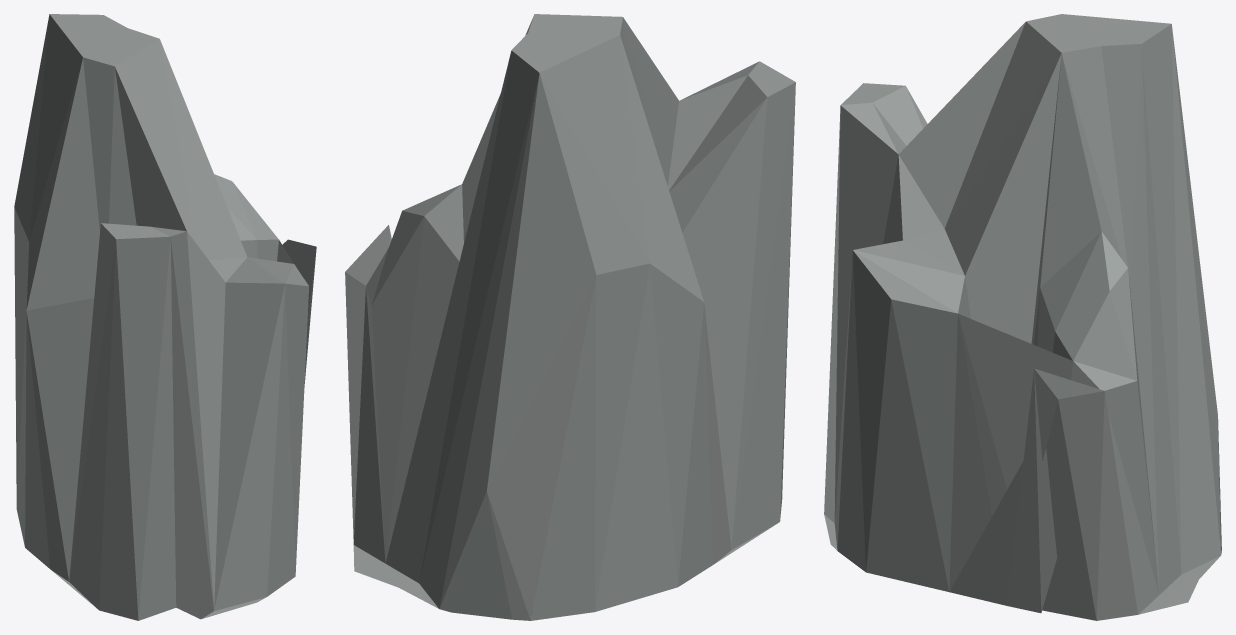
The model's file is rock3.fbx.
3 views of the same model, side by side, from view 1: azimuth 30°, elevation 25°; view 2: azimuth 150°, elevation 25°; view 3: azimuth 270°, elevation 25° (orthographic). The views are drawn at different scales.
Parts seen in each view (by area): view 1: Rock3; view 2: Rock3; view 3: Rock3.
Part boxes in pixels (left/top/right/bottom): Rock3: left=14, top=14, right=316, bottom=620; Rock3: left=345, top=14, right=795, bottom=620; Rock3: left=824, top=14, right=1221, bottom=620.
Size of the model in its own units: 587 by 922 by 667.
